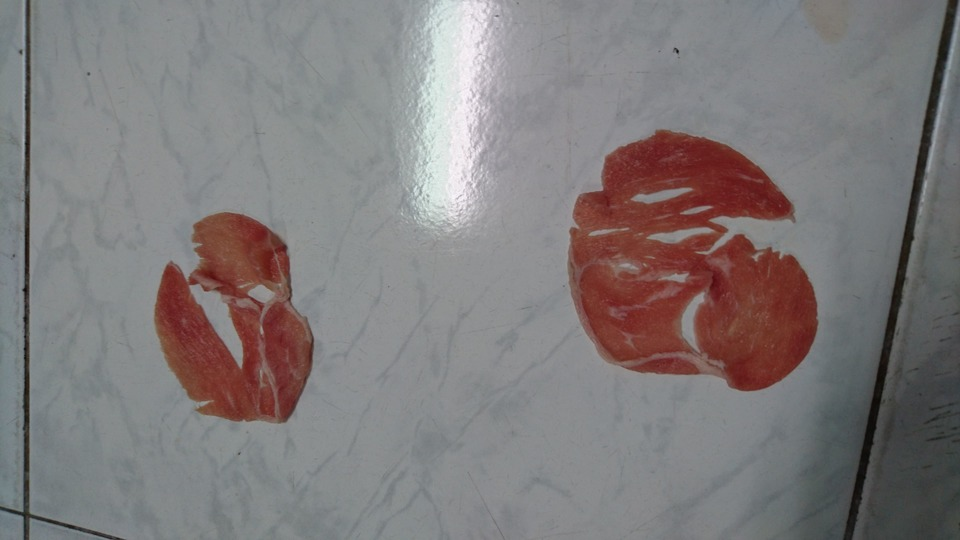restructured meat: (554, 122, 821, 391), (153, 210, 313, 436)
